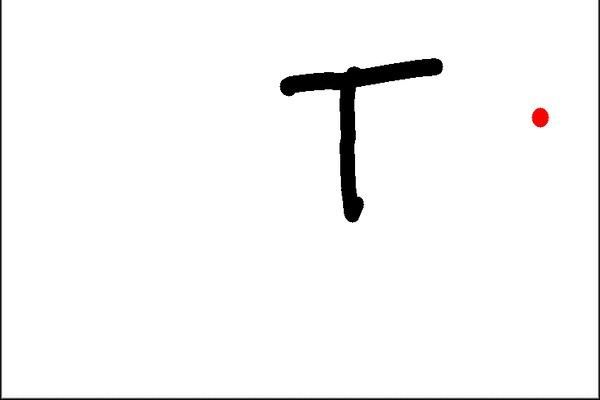T: (273, 55, 445, 227)
